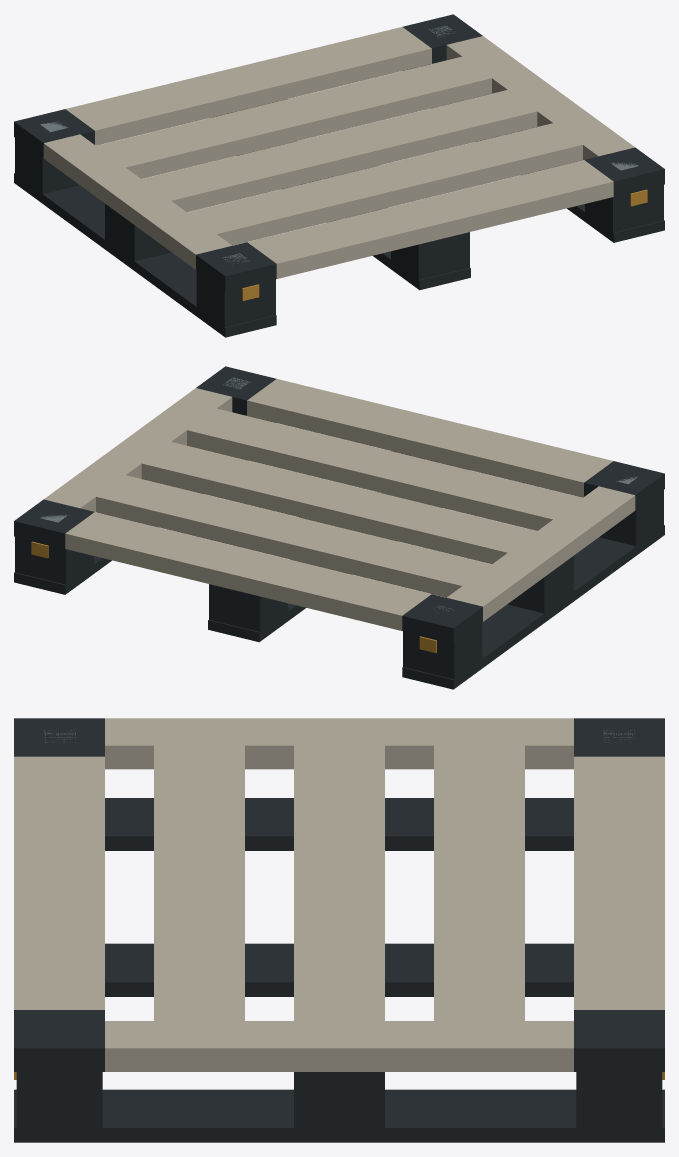
Rendered from pallet_d0_lod2.glb.
The picture shows the model from 3 angles, top to bottom: view 1: azimuth 30°, elevation 25°; view 2: azimuth 150°, elevation 25°; view 3: azimuth 270°, elevation 25°; orthographic projection. The views are drawn at different scales.
Visible parts, largest first — view 1: PALLET_STATIC_SURFACE; view 2: PALLET_STATIC_SURFACE; view 3: PALLET_STATIC_SURFACE.
Part boxes in pixels (<box>): PALLET_STATIC_SURFACE: <box>14,14,664,337</box>; PALLET_STATIC_SURFACE: <box>14,366,664,689</box>; PALLET_STATIC_SURFACE: <box>14,718,664,1142</box>.
Size of the model in its own units: 1.2 by 0.16 by 1.
